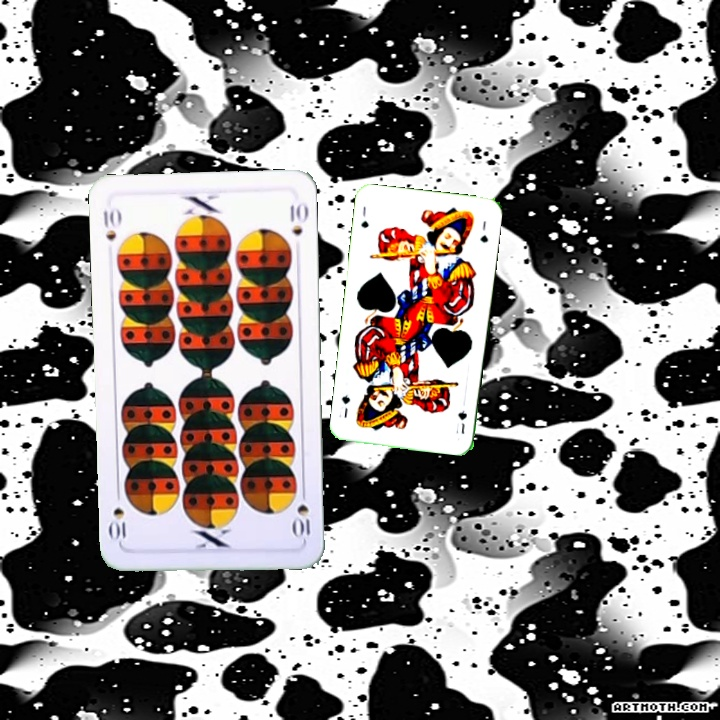GU: (455, 406, 469, 436), (357, 202, 371, 231)
S10: (291, 484, 312, 543), (99, 204, 123, 243)
